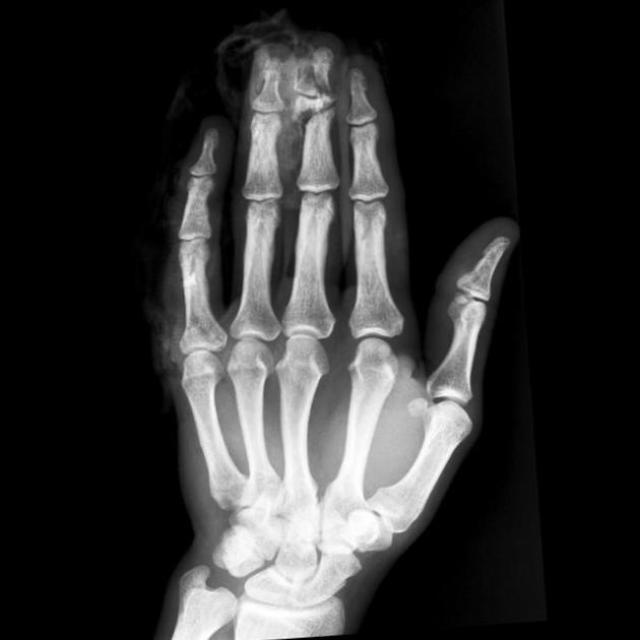Comminuted: (295, 40, 337, 116)
